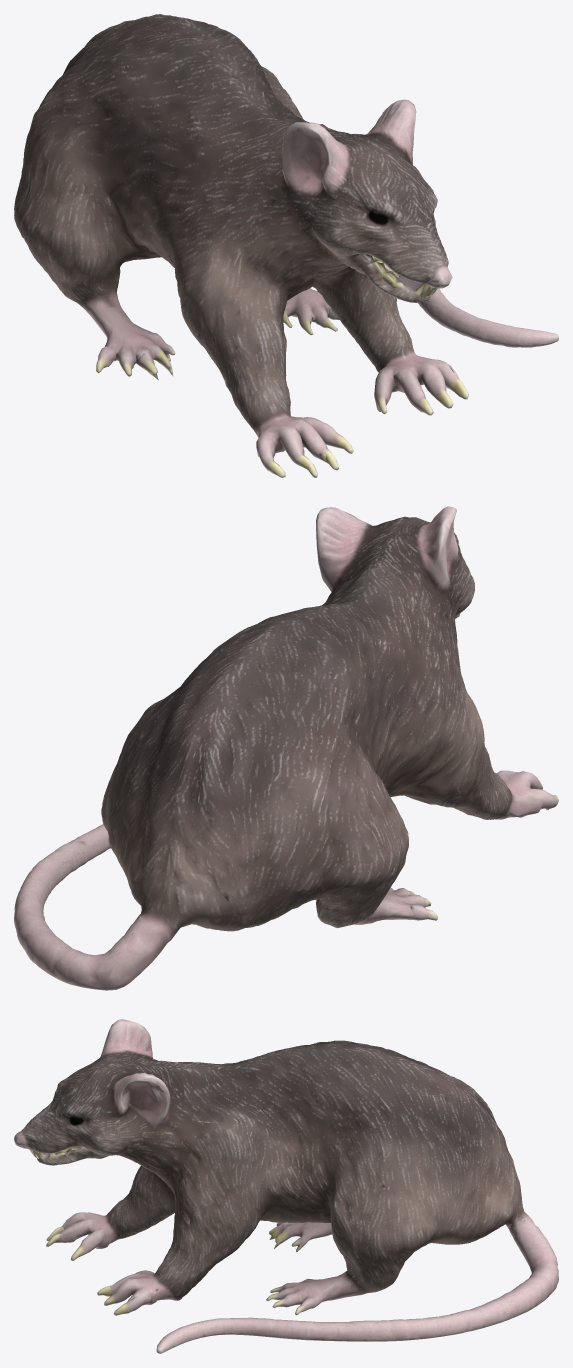
Rendered from MZ4250 - Rat.glb.
3 views of the same model, one above another, from view 1: azimuth 30°, elevation 25°; view 2: azimuth 150°, elevation 25°; view 3: azimuth 270°, elevation 25° (orthographic). The views are drawn at different scales.
Visible parts, largest first — view 1: Dire Rat 25Mm.001; view 2: Dire Rat 25Mm.001; view 3: Dire Rat 25Mm.001.
Part boxes in pixels (x1=…): Dire Rat 25Mm.001: x1=14, y1=14, x2=558, y2=477; Dire Rat 25Mm.001: x1=14, y1=506, x2=558, y2=990; Dire Rat 25Mm.001: x1=14, y1=1019, x2=558, y2=1353.
Bounding box in the file's own units: 6.68 × 5.21 × 10.57.
1 material, 1 textured.
